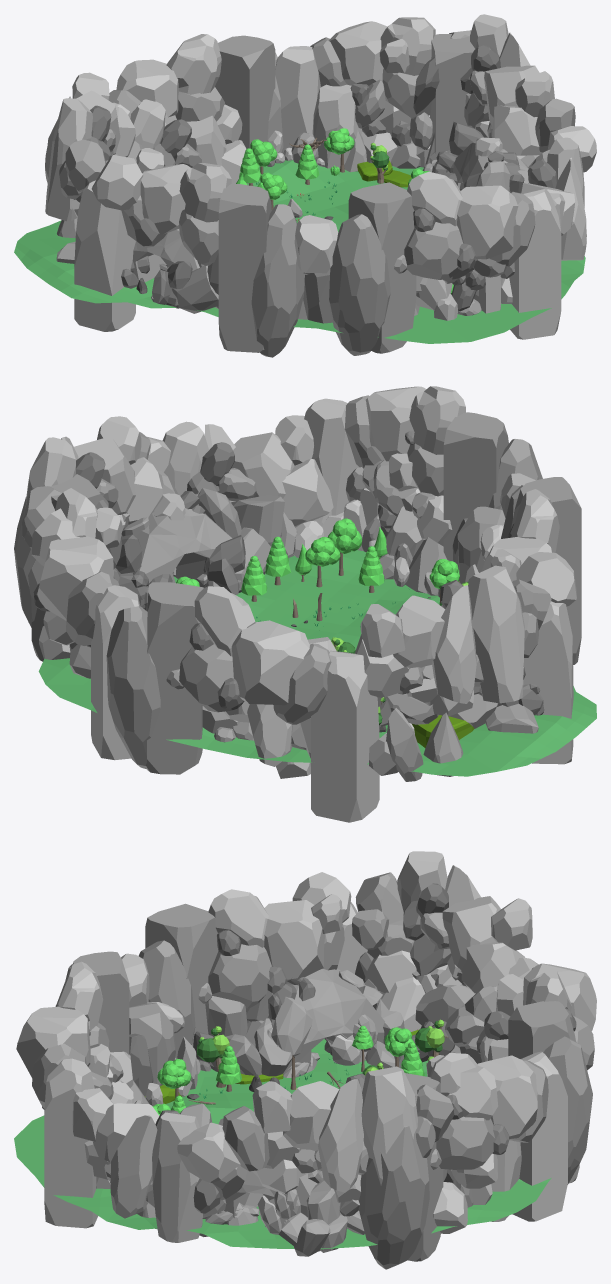
File: forest_wFixedWall.fbx
The picture shows the model from 3 angles, top to bottom: view 1: azimuth 30°, elevation 25°; view 2: azimuth 150°, elevation 25°; view 3: azimuth 270°, elevation 25°; orthographic projection. The views are drawn at different scales.
Parts seen in each view (by area): view 1: WallRock, Plane, Rocks, Cave01, Trees, Cave02; view 2: WallRock, Plane, Cave02, Rocks, Trees, Cave01; view 3: WallRock, Cave01, Plane, Cave02, Trees, Rocks.
Part boxes in pixels (left/top/right/bottom): WallRock: left=45, top=14, right=596, bottom=357; Plane: left=14, top=160, right=585, bottom=343; Rocks: left=57, top=121, right=512, bottom=320; Cave01: left=56, top=229, right=218, bottom=313; Trees: left=236, top=128, right=453, bottom=294; Cave02: left=429, top=122, right=528, bottom=192; WallRock: left=14, top=386, right=581, bottom=822; Plane: left=38, top=550, right=596, bottom=776; Cave02: left=114, top=488, right=288, bottom=611; Rocks: left=69, top=488, right=478, bottom=781; Trees: left=176, top=518, right=468, bottom=725; Cave01: left=485, top=666, right=544, bottom=733; WallRock: left=16, top=851, right=596, bottom=1269; Cave01: left=193, top=952, right=419, bottom=1084; Plane: left=14, top=1039, right=551, bottom=1249; Cave02: left=179, top=1103, right=364, bottom=1256; Trees: left=152, top=1019, right=448, bottom=1115; Rocks: left=96, top=1029, right=473, bottom=1207.
Size of the model in its own units: 294 by 113 by 277.
